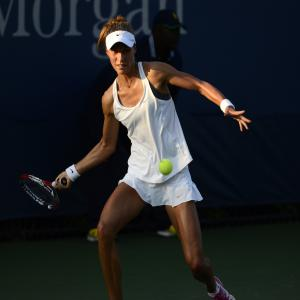TennisBall: (159, 160, 173, 175)
